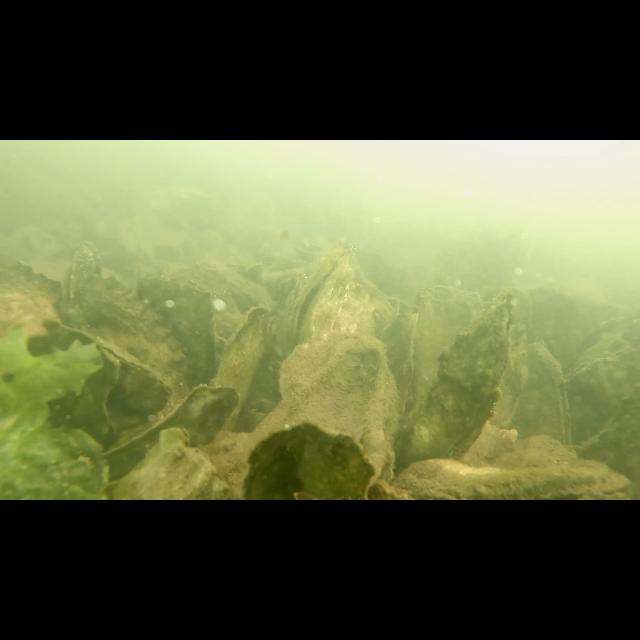Oyster-Closed: (250, 332, 392, 482), (64, 240, 188, 392), (103, 384, 239, 482), (43, 318, 171, 412), (243, 422, 375, 500), (394, 458, 630, 500), (112, 426, 232, 500), (134, 272, 216, 380), (416, 285, 482, 407), (563, 351, 640, 453), (506, 342, 574, 450), (210, 304, 270, 418), (266, 266, 308, 330)
Oyster-Open: (396, 291, 514, 473), (292, 242, 394, 348)
